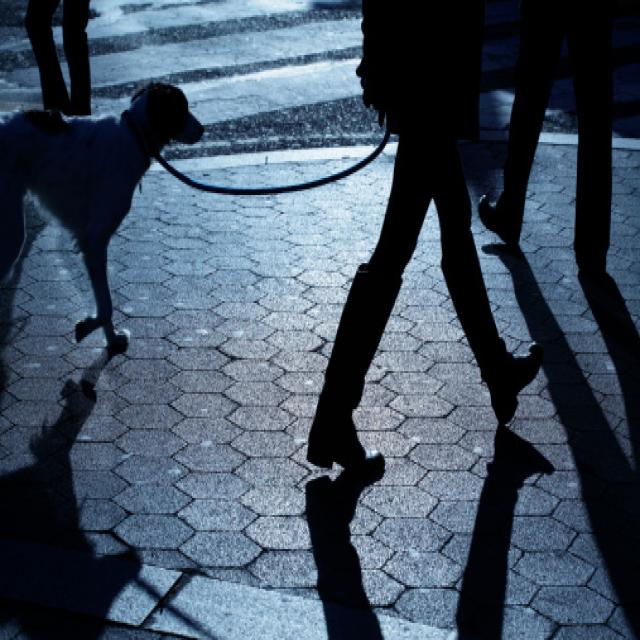Dog: (1, 37, 214, 369)
